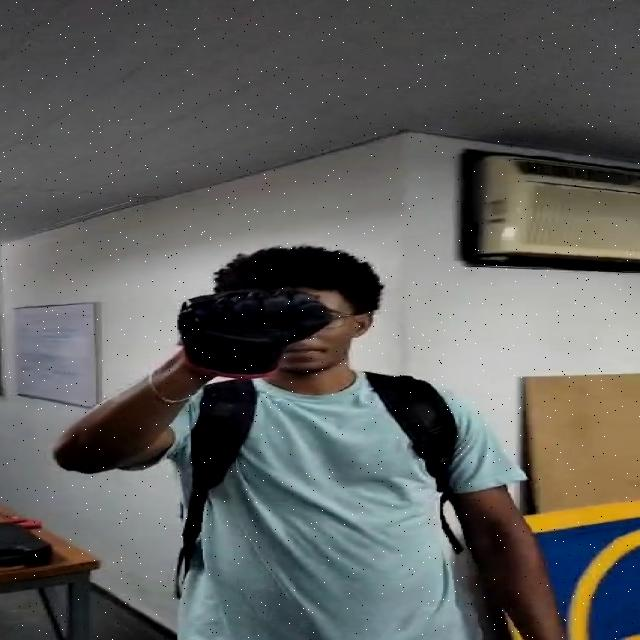Gloves: (175, 292, 333, 381)
